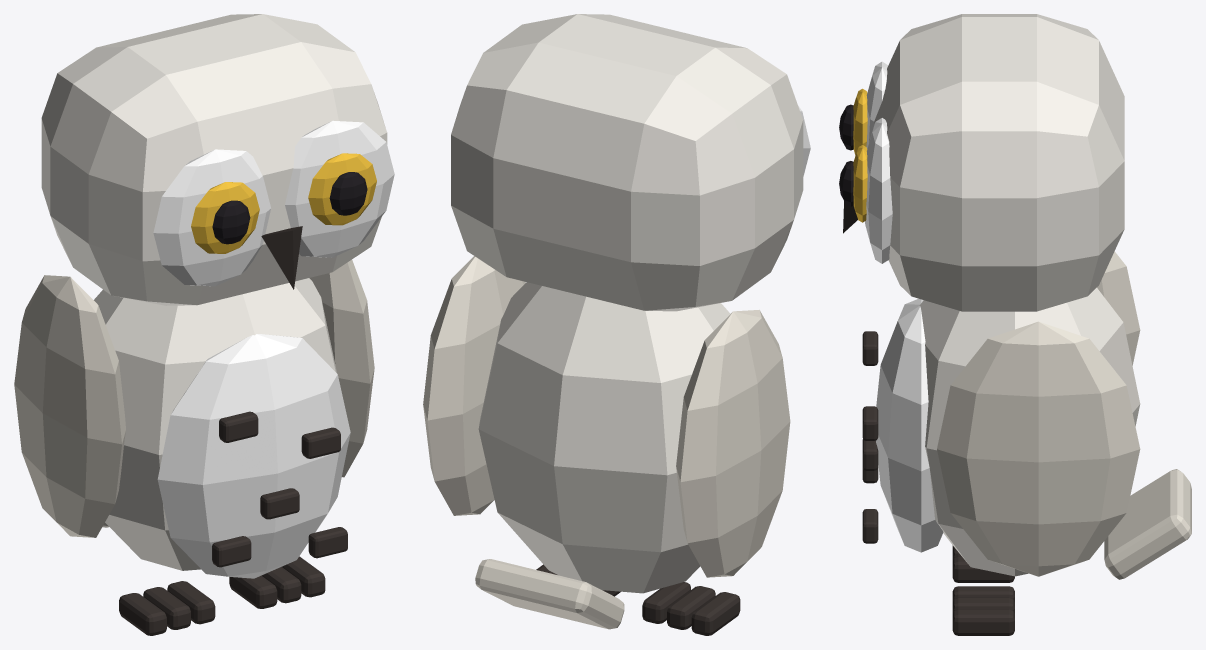
File: owl_snowy.glb
3 renders of one model, left to right at view 1: azimuth 30°, elevation 25°; view 2: azimuth 150°, elevation 25°; view 3: azimuth 270°, elevation 25°, orthographic. The views are drawn at different scales.
Visible parts, largest first — view 1: head_mesh, body_mesh, wing_r_mesh, wing_l_mesh, foot_r_mesh, foot_l_mesh; view 2: head_mesh, body_mesh, wing_r_mesh, wing_l_mesh, foot_r_mesh; view 3: head_mesh, wing_l_mesh, body_mesh, foot_l_mesh, wing_r_mesh, foot_r_mesh.
Part boxes in pixels (x1,y1,x2,y2): head_mesh: (41, 14, 394, 305); body_mesh: (94, 278, 350, 578); wing_r_mesh: (14, 275, 125, 537); wing_l_mesh: (309, 259, 374, 477); foot_r_mesh: (119, 581, 215, 635); foot_l_mesh: (229, 556, 325, 608); head_mesh: (451, 14, 810, 311); body_mesh: (475, 282, 730, 629); wing_r_mesh: (676, 309, 790, 577); wing_l_mesh: (423, 256, 525, 515); foot_r_mesh: (642, 582, 740, 635); head_mesh: (839, 14, 1124, 311); wing_l_mesh: (937, 321, 1140, 576); body_mesh: (862, 287, 1191, 579); foot_l_mesh: (952, 586, 1014, 635); wing_r_mesh: (1097, 251, 1140, 365); foot_r_mesh: (952, 545, 1014, 582).
Size of the model in its own units: 0.44 by 0.77 by 0.4509.
